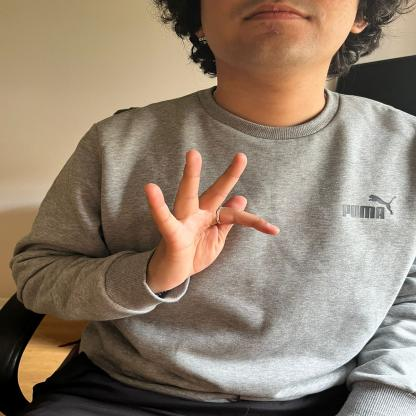F: (138, 143, 288, 288)
